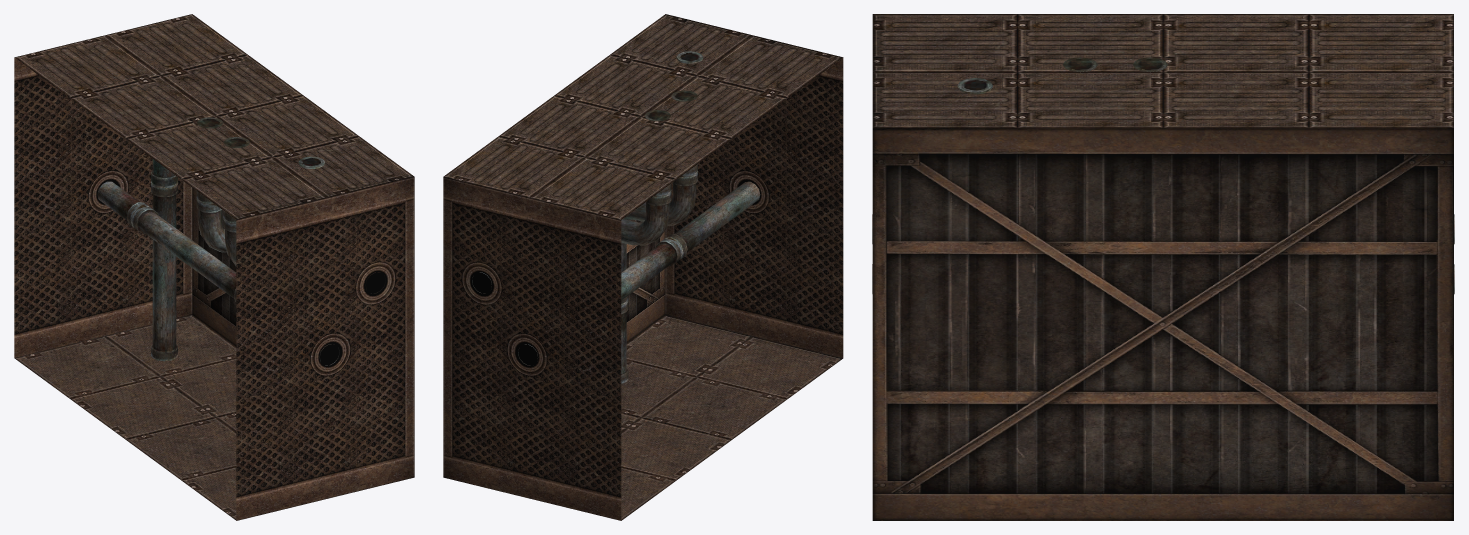
File: 01_02_comm_room_wall_interior.dae
The picture shows the model from 3 angles, left to right: view 1: azimuth 30°, elevation 25°; view 2: azimuth 150°, elevation 25°; view 3: azimuth 270°, elevation 25°; orthographic projection. The views are drawn at different scales.
Visible parts, largest first — view 1: interior, pipes; view 2: interior, pipes; view 3: interior, pipes.
Boxes of the visible parts, x1,y1,x2,y2 form: interior: (14, 14, 414, 520); pipes: (97, 117, 385, 365); interior: (443, 14, 843, 520); pipes: (472, 51, 760, 383); interior: (872, 14, 1453, 520); pipes: (872, 57, 1454, 294).
Bounding box in the file's own units: 1.44 × 2.33 × 3.12.
